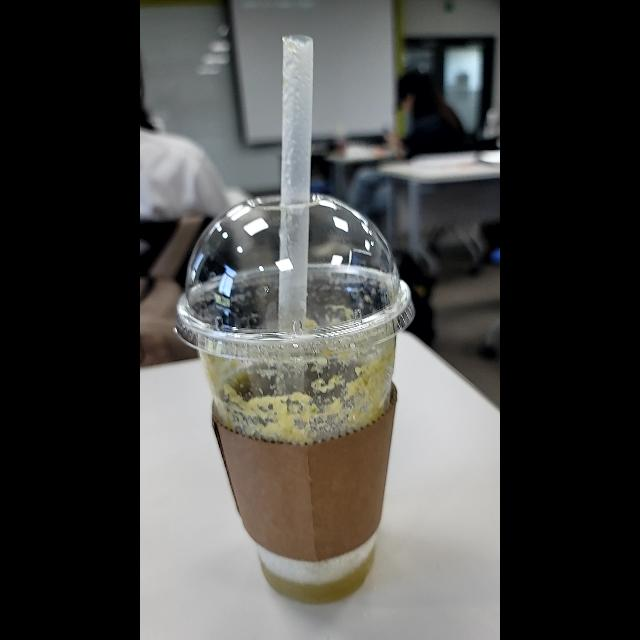plastic_cup: (175, 188, 432, 616)
plastic_cup_lid: (171, 188, 415, 364)
straw: (276, 37, 309, 400)
